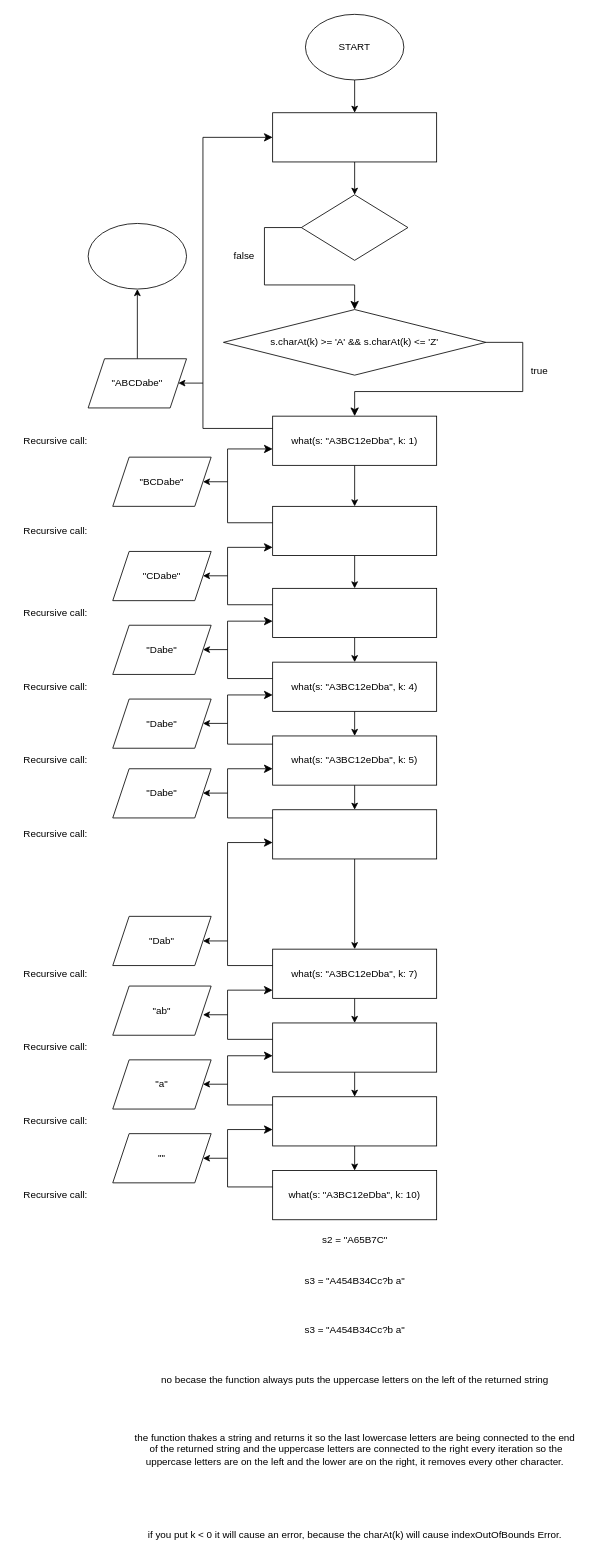
Some shapes in this 598 by 1562 pixel diagram are drawn without their labels. Here are the shapes that lost their labels. From the top down, the box of each, then its label:
(272, 112, 437, 162): what(s: "A3BC12eDba", k: 0)
(301, 194, 408, 260): s.length() == k
(87, 223, 187, 289): END
(272, 506, 437, 556): what(s: "A3BC12eDba", k: 2)
(272, 588, 437, 638): what(s: "A3BC12eDba", k: 3)
(272, 809, 437, 859): what(s: "A3BC12eDba", k: 6)
(272, 1022, 437, 1072): what(s: "A3BC12eDba", k: 8)
(272, 1096, 437, 1146): what(s: "A3BC12eDba", k: 9)
